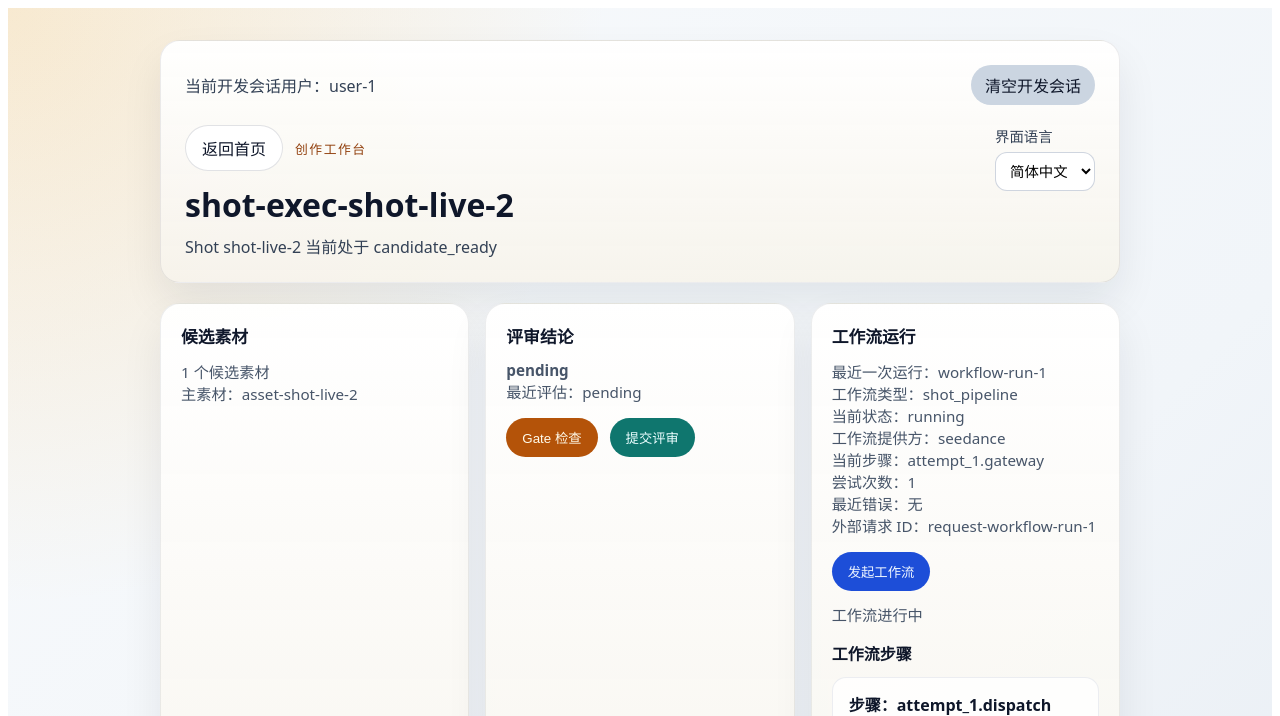
Test: App › keeps the current shot workbench visible and surfaces an action error when gate checks fail
The width and height of the screenshot is (1280, 716).
Expected: the heading "shot-exec-shot-live-2" is shown, [185,183,514,226]
Click the button "Gate 检查": coordinates (552, 438) [506,418,598,457]
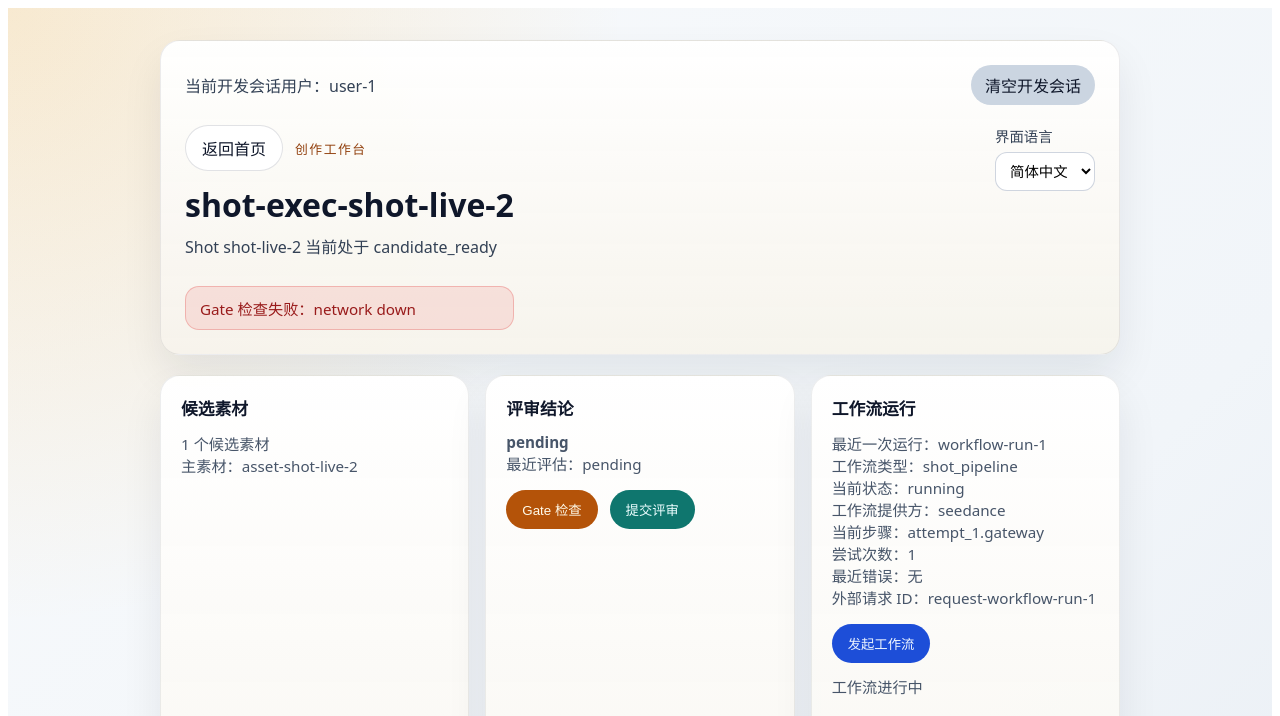
Expected: the heading "shot-exec-shot-live-2" is shown, [185,183,514,226]
Expected: the text "Gate 检查失败：network down" is shown, [200,299,416,319]
